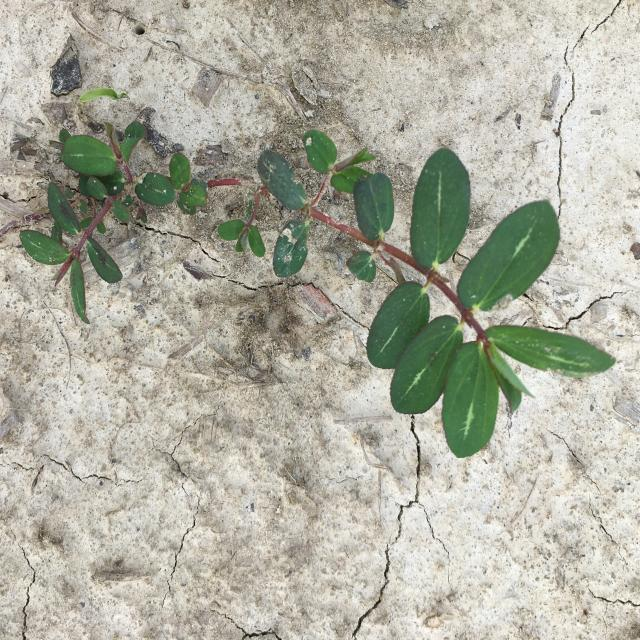SpottedSpurge: (19, 119, 617, 460)
